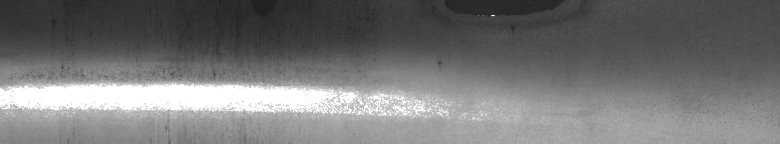ke: (4, 4, 560, 132)
